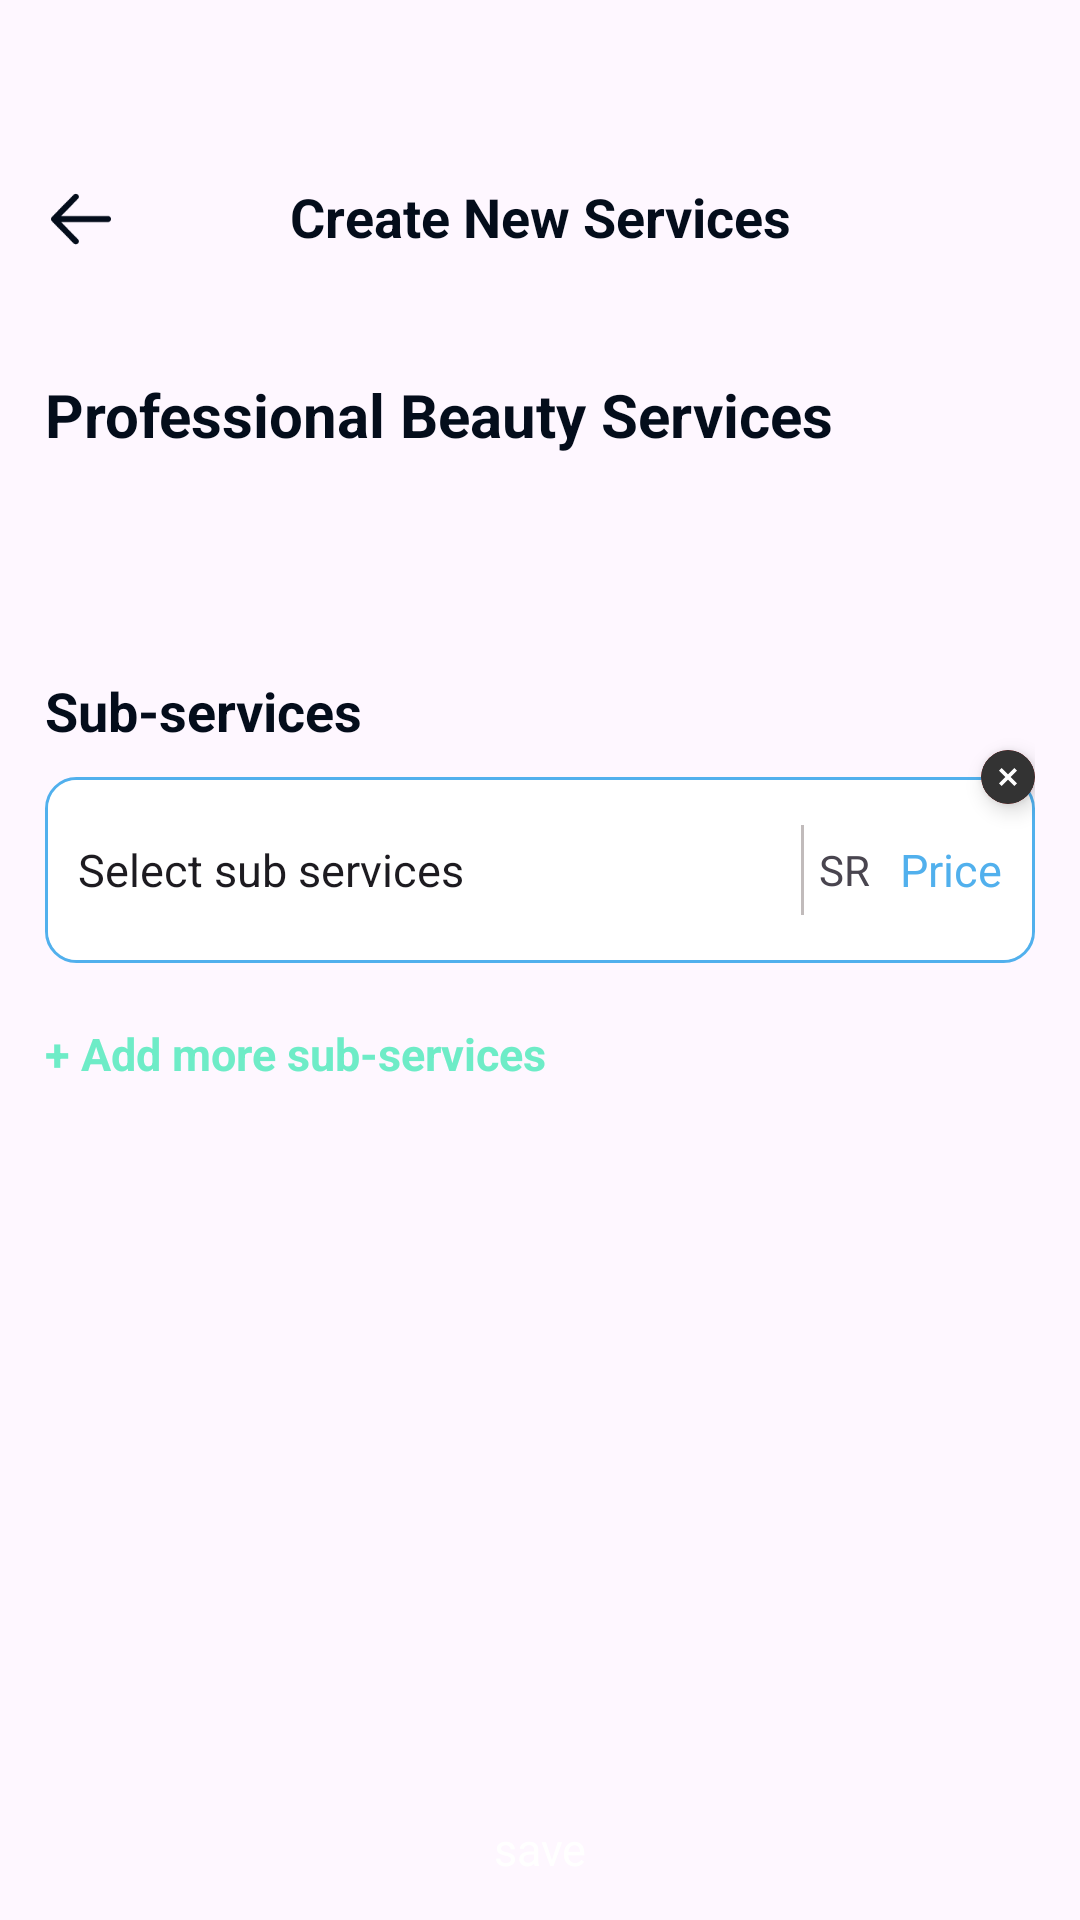

Point at icon controls on the screen. Image size 1080px×1920px, points as (x,y).
arrow left: (81,219)
cross: (1008,777)
